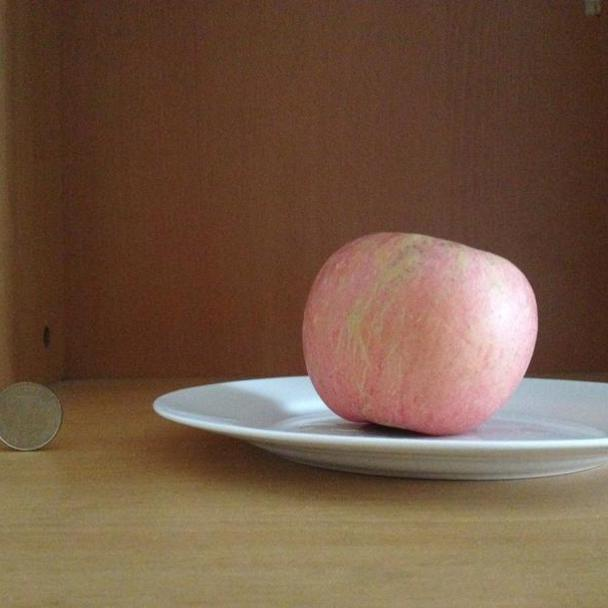apple: (295, 224, 543, 436)
